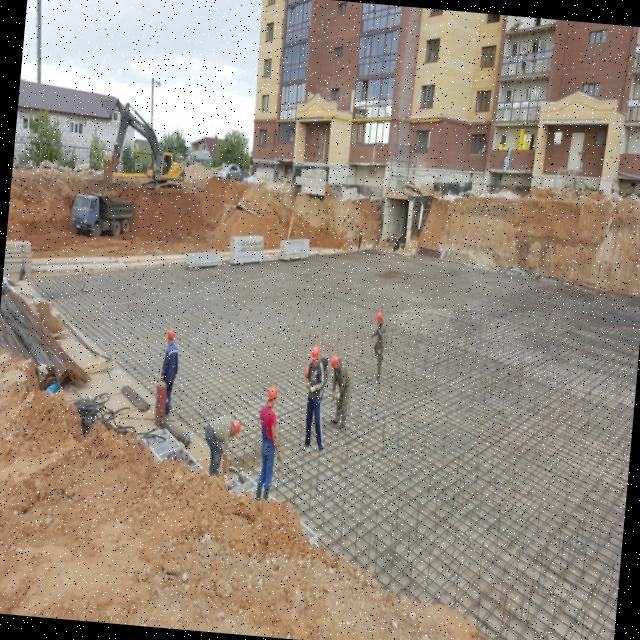Helmet: (232, 419, 242, 439), (268, 387, 279, 404), (310, 346, 321, 363), (330, 355, 339, 372), (167, 329, 175, 345), (377, 311, 385, 324)
NoJacket: (259, 404, 277, 457), (308, 364, 324, 402), (210, 417, 233, 443), (164, 345, 179, 384), (333, 365, 352, 395), (374, 326, 387, 357)
